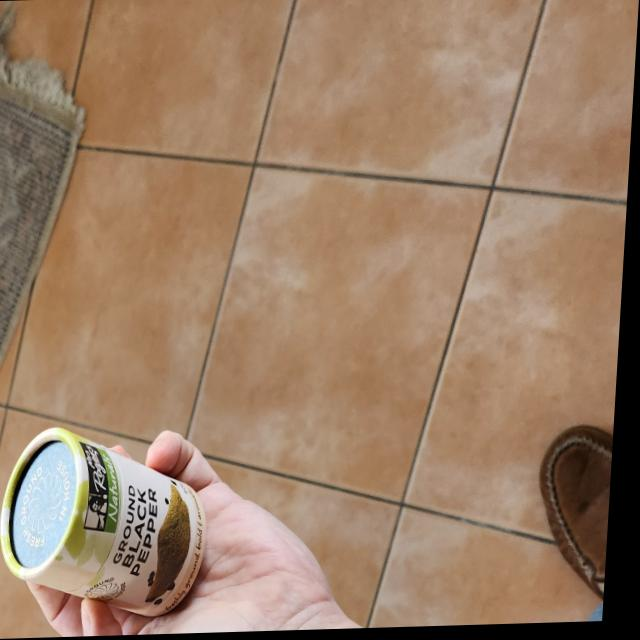black pepper: (0, 427, 215, 620)
